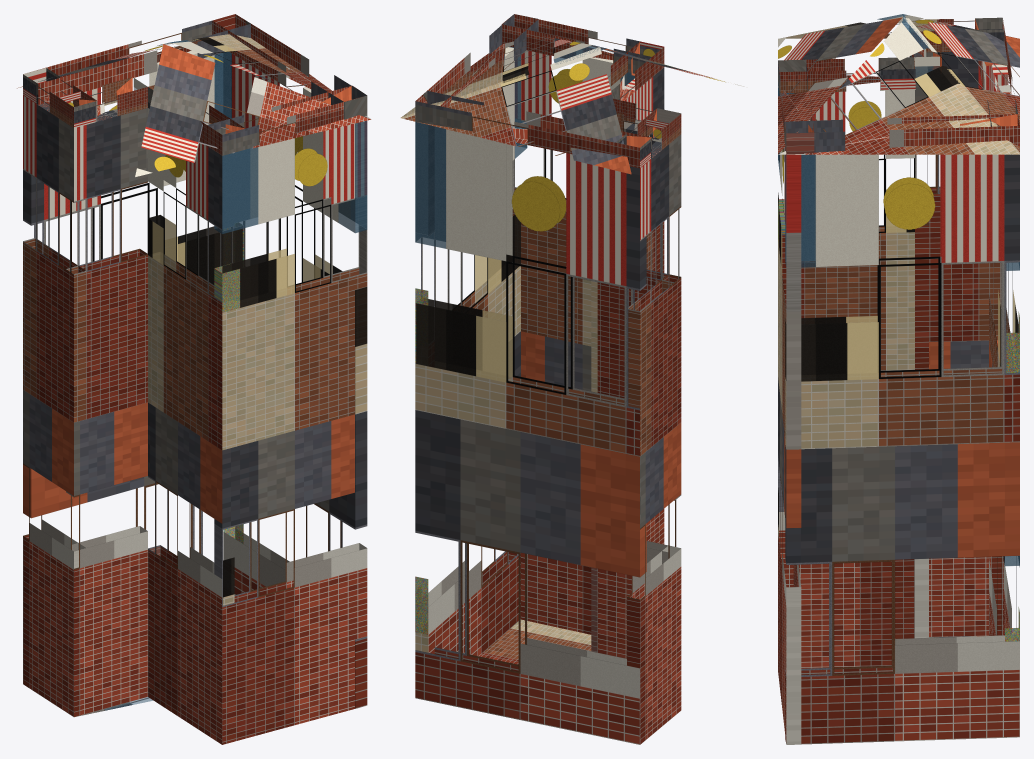
The picture shows the model from 3 angles, left to right: view 1: azimuth 30°, elevation 25°; view 2: azimuth 150°, elevation 25°; view 3: azimuth 270°, elevation 25°; orthographic projection. The views are drawn at different scales.
Visible parts, largest first — view 1: 316903854__wall_2_xb, 316903854__wall_0_xb, 316903854__wall_1_xb, 316903854__wall_5_xb, 316903854__wall_3_xb, 316903854__wall_4_xb, 316903854_roof_front_xb, 316903854__wall_2_xf, 316903854__cornice_4, 316903854__cornice_3, 316903854__wall_4_xf, 316903854__wall_3_xf (+6 smaller); view 2: 316903854__wall_4_xb, 316903854__wall_5_xb, 316903854__wall_2_xb, 316903854__wall_3_xb, 316903854__wall_4_xf, 316903854_roof_back_xb, 316903854__wall_0_xb, 316903854__cornice_4, 316903854__wall_1_xb, 316903854__cornice_2, 316903854_roof_right_xb, 316903854__wall_3_xf (+5 smaller); view 3: 316903854__wall_3_xb, 316903854__wall_1_xb, 316903854__wall_5_xb, 316903854__wall_2_xb, 316903854_roof_right_xb, 316903854__wall_3_xf, 316903854_roof_front_xb, 316903854__cornice_3, 316903854_roof_back_xb, 316903854__wall_0_xb, 316903854__wall_4_xb, 316903854__cornice_1 (+7 smaller).
Part boxes in pixels (box(x1,y1,x2,y2)): 316903854__wall_2_xb: box(214, 121, 367, 744); 316903854__wall_0_xb: box(66, 108, 147, 716); 316903854__wall_1_xb: box(148, 108, 234, 744); 316903854__wall_5_xb: box(23, 95, 85, 716); 316903854__wall_3_xb: box(223, 52, 367, 708); 316903854__wall_4_xb: box(23, 50, 243, 554); 316903854_roof_front_xb: box(135, 44, 370, 176); 316903854__wall_2_xf: box(214, 147, 294, 311); 316903854__cornice_4: box(31, 20, 250, 104); 316903854__cornice_3: box(212, 14, 367, 119); 316903854__wall_4_xf: box(177, 52, 243, 542); 316903854__wall_3_xf: box(223, 121, 366, 538); 316903854__wall_4_xb: box(415, 122, 646, 744); 316903854__wall_5_xb: box(627, 134, 681, 744); 316903854__wall_2_xb: box(508, 47, 634, 634); 316903854__wall_3_xb: box(415, 46, 527, 656); 316903854__wall_4_xf: box(415, 122, 556, 381); 316903854_roof_back_xb: box(401, 47, 631, 174); 316903854__wall_0_xb: box(597, 121, 681, 658); 316903854__cornice_4: box(415, 91, 651, 168); 316903854__wall_1_xb: box(591, 68, 664, 652); 316903854__cornice_2: box(501, 14, 660, 73); 316903854_roof_right_xb: box(401, 35, 606, 117); 316903854__wall_3_xf: box(416, 47, 526, 634); 316903854__wall_3_xb: box(785, 150, 1019, 744); 316903854__wall_1_xb: box(778, 90, 914, 668); 316903854__wall_5_xb: box(926, 51, 1003, 637); 316903854__wall_2_xb: box(778, 82, 801, 744); 316903854_roof_right_xb: box(778, 14, 1019, 154); 316903854__wall_3_xf: box(785, 155, 1019, 627); 316903854_roof_front_xb: box(778, 17, 902, 153); 316903854__cornice_3: box(784, 114, 1019, 152); 316903854_roof_back_xb: box(903, 17, 1019, 153); 316903854__wall_0_xb: box(909, 52, 928, 638); 316903854__wall_4_xb: box(989, 63, 1019, 641); 316903854__cornice_1: box(778, 57, 915, 93).
Size of the model in its own units: 0.2942 by 0.7779 by 0.2598.
Materials: 1 (1 with a texture image).
